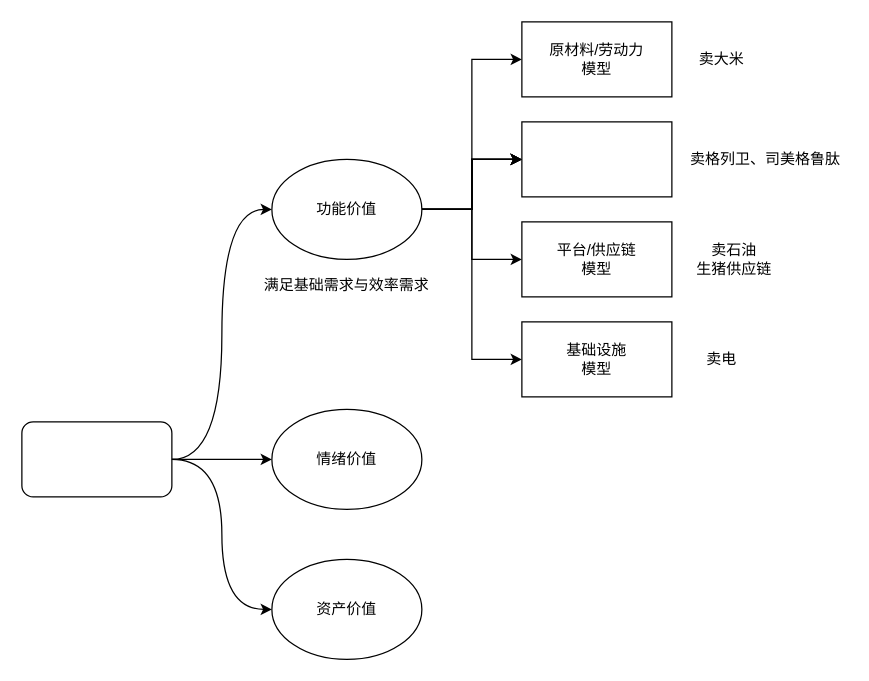
Some shapes in this 869 by 681 pixel diagram are drawn without their labels. The centre of each missing label's shape, as x and y in pixels:
"专利/IP 模型" goes at (x=596, y=159).
"产品价值" goes at (x=96, y=459).
